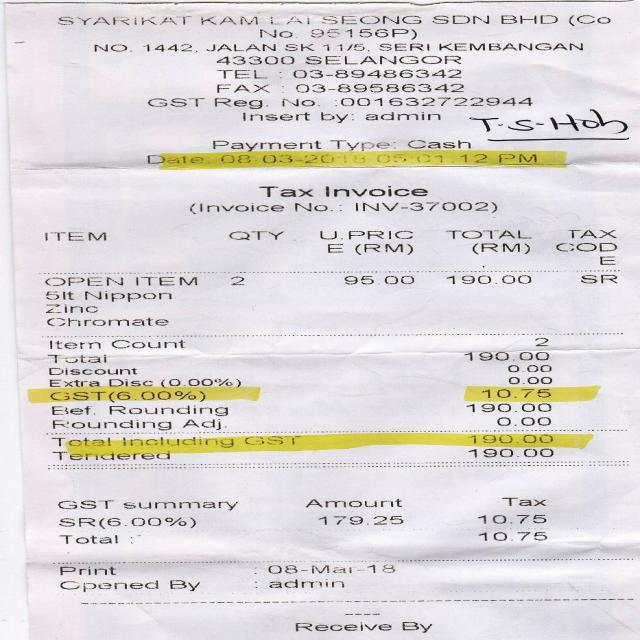text: (335, 97, 532, 106), (48, 391, 204, 402), (292, 69, 460, 78), (295, 83, 463, 92), (58, 517, 195, 528), (355, 202, 496, 212), (305, 55, 460, 64), (109, 405, 228, 416), (267, 564, 396, 574), (50, 450, 170, 460), (58, 580, 158, 592), (51, 420, 170, 430), (309, 28, 416, 39), (213, 140, 320, 151), (219, 154, 365, 162), (120, 437, 234, 447), (324, 186, 426, 197), (46, 317, 167, 326), (57, 16, 191, 24), (122, 501, 237, 510), (190, 203, 284, 214), (438, 43, 582, 50), (326, 243, 411, 254), (320, 15, 420, 24), (306, 498, 402, 507), (294, 622, 390, 631), (84, 291, 170, 301), (319, 230, 411, 239), (444, 230, 531, 239), (465, 403, 551, 412), (467, 434, 553, 443), (467, 448, 552, 457), (464, 352, 548, 361), (328, 140, 394, 151), (48, 367, 136, 375), (480, 388, 550, 398), (445, 275, 531, 283), (269, 579, 344, 588), (318, 516, 402, 524), (471, 243, 529, 254), (344, 275, 414, 284), (215, 56, 293, 64), (44, 277, 122, 285), (476, 514, 545, 523), (146, 154, 208, 164), (110, 340, 186, 348), (365, 112, 439, 120), (136, 276, 195, 286), (167, 378, 237, 386), (555, 242, 617, 251), (206, 43, 274, 51), (242, 112, 310, 120), (214, 98, 268, 108), (258, 186, 312, 196), (47, 354, 107, 363), (51, 437, 111, 446), (478, 532, 545, 540), (57, 500, 114, 509), (432, 15, 488, 24), (406, 140, 469, 148), (58, 566, 114, 575), (568, 14, 609, 26), (44, 232, 105, 240), (228, 231, 282, 240), (182, 418, 226, 429), (59, 535, 117, 543), (243, 436, 300, 444), (500, 15, 556, 23), (200, 16, 256, 24), (148, 98, 204, 106), (567, 229, 616, 238), (142, 44, 195, 52), (496, 417, 549, 425), (215, 70, 267, 78), (216, 84, 268, 92), (44, 304, 96, 312), (48, 340, 98, 348), (322, 43, 369, 51), (320, 112, 354, 123), (294, 203, 340, 211), (501, 498, 546, 506), (508, 376, 550, 384), (52, 406, 94, 414), (580, 274, 616, 283), (107, 379, 153, 386), (496, 154, 536, 162), (168, 580, 200, 590), (270, 16, 308, 24), (258, 29, 296, 37), (507, 365, 550, 372), (378, 44, 428, 50), (401, 622, 431, 632), (281, 98, 318, 106), (94, 44, 132, 51), (284, 43, 314, 51), (376, 154, 406, 162), (459, 154, 487, 162), (44, 292, 72, 300), (416, 154, 442, 162), (230, 276, 243, 285), (600, 256, 614, 264), (534, 338, 547, 346), (49, 379, 61, 386)
